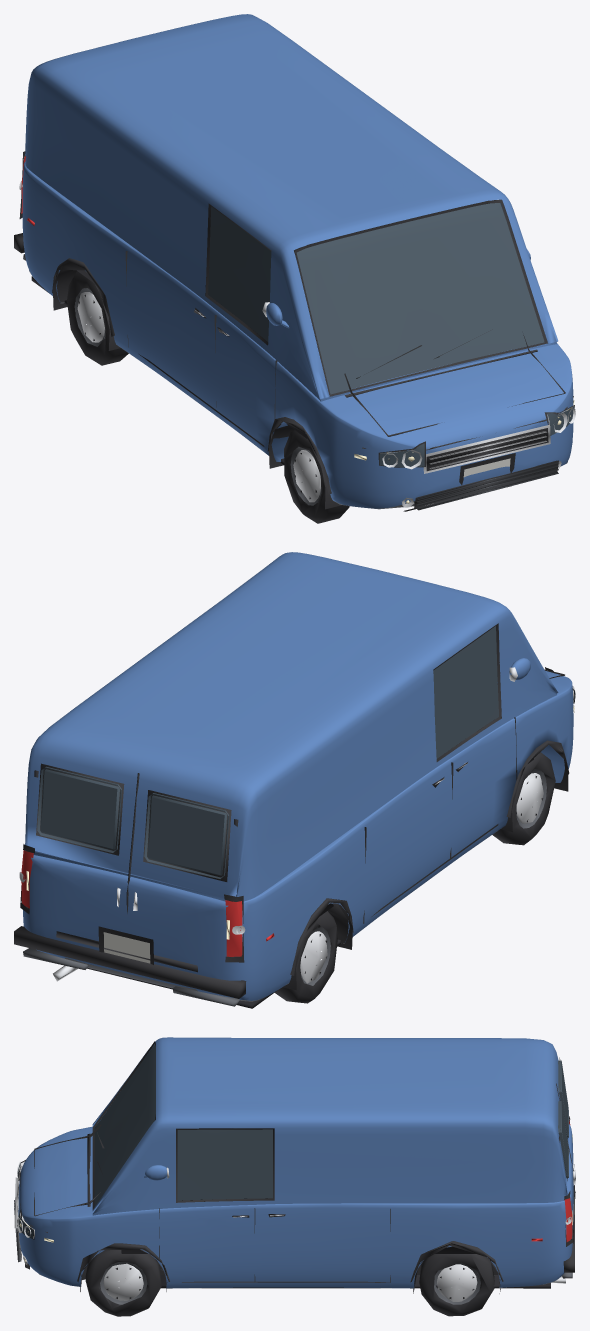
Rendered from CarV3_Van_L1.fbx.
3 views of the same model, one above another, from view 1: azimuth 30°, elevation 25°; view 2: azimuth 150°, elevation 25°; view 3: azimuth 270°, elevation 25° (orthographic). The views are drawn at different scales.
Visible parts, largest first — view 1: CarV3_Van.001; view 2: CarV3_Van.001; view 3: CarV3_Van.001.
Boxes of the visible parts, box(x1,y1,x2,y2) form: CarV3_Van.001: box(14, 14, 575, 523); CarV3_Van.001: box(14, 552, 575, 1008); CarV3_Van.001: box(14, 1037, 575, 1316).
Bounding box in the file's own units: 2.06 × 2 × 5.06.
